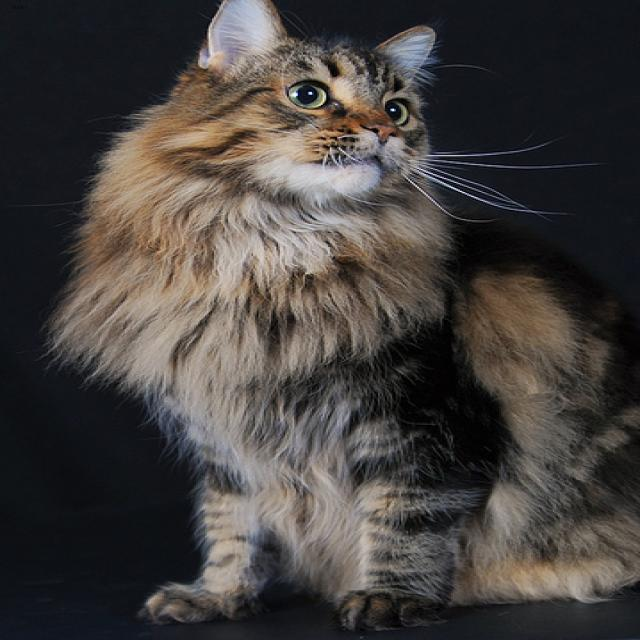Maine_Coon: (146, 0, 436, 218)
